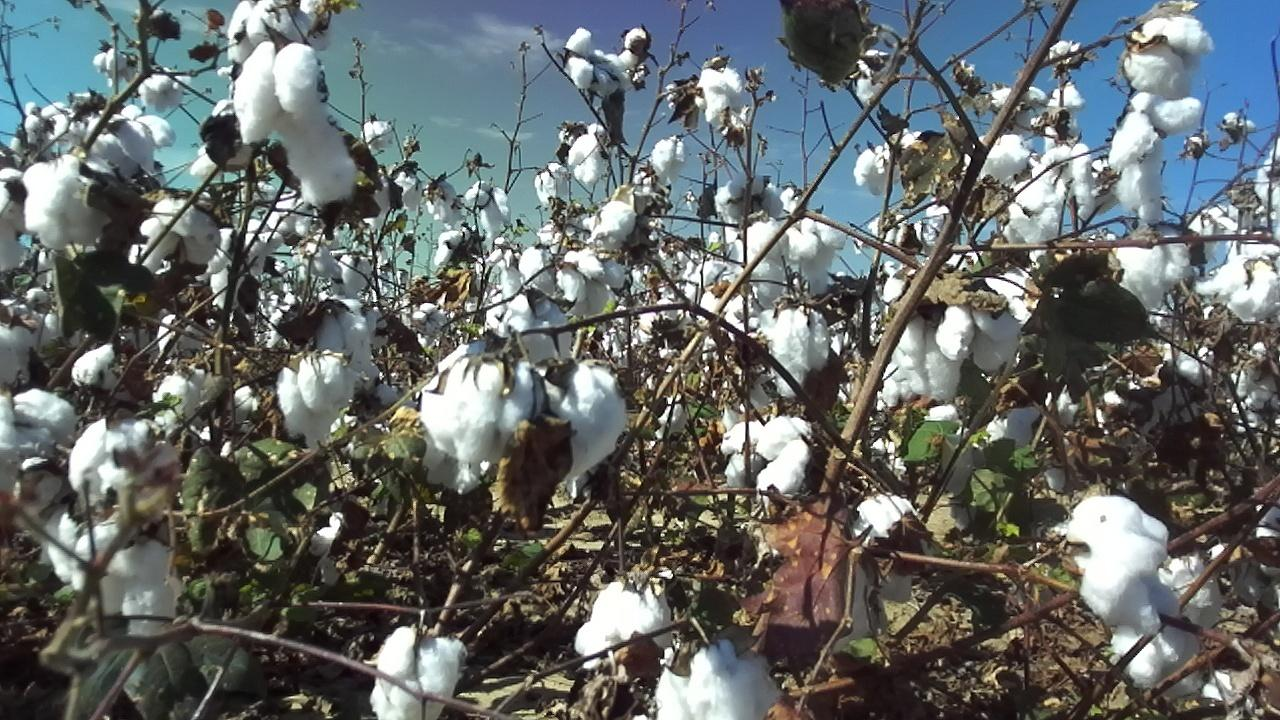cotton_ready: (233, 41, 360, 205), (420, 339, 537, 497), (1065, 492, 1168, 623), (73, 513, 179, 640), (1110, 92, 1205, 222), (539, 357, 630, 487), (654, 637, 785, 720), (67, 417, 184, 503), (575, 570, 674, 667), (369, 624, 465, 720), (15, 455, 84, 586), (1112, 601, 1202, 697), (23, 157, 114, 250), (1122, 14, 1219, 101), (717, 417, 812, 502), (276, 350, 355, 451), (1110, 224, 1199, 313), (850, 492, 920, 603), (0, 389, 72, 493), (761, 304, 832, 399), (297, 297, 379, 377), (934, 299, 1022, 370), (899, 305, 964, 401), (140, 197, 219, 271), (1195, 255, 1280, 323), (227, 0, 314, 66), (93, 105, 177, 172), (1158, 547, 1225, 630), (785, 214, 845, 298), (557, 250, 629, 317), (1040, 144, 1099, 225), (72, 342, 145, 407), (854, 130, 924, 197), (510, 292, 576, 359), (569, 30, 632, 94), (153, 365, 220, 423), (0, 294, 42, 386), (745, 220, 788, 303), (1009, 179, 1064, 243), (714, 177, 785, 225), (965, 132, 1032, 179), (700, 284, 764, 330), (588, 184, 639, 239), (0, 164, 25, 273), (568, 122, 610, 185), (699, 65, 742, 121), (519, 242, 559, 293)
